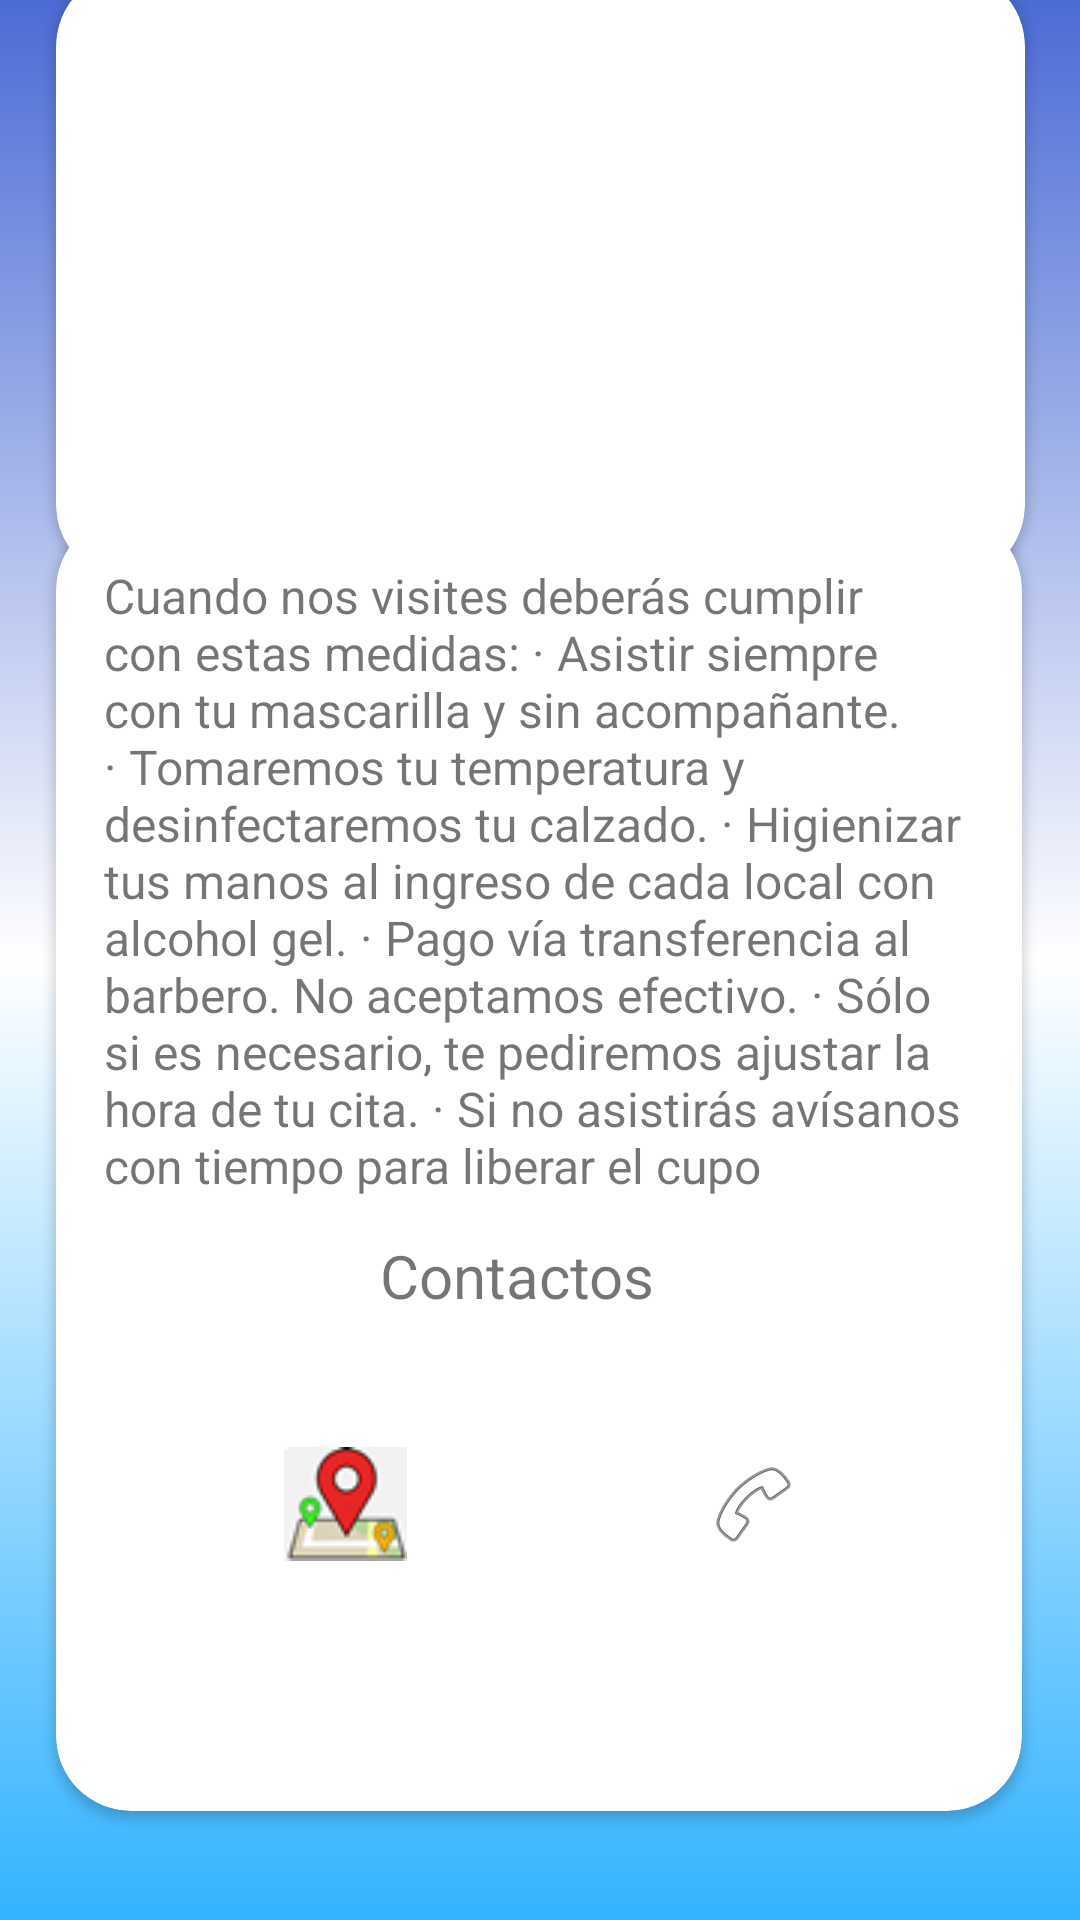

Named icons in this screenshot (1080×1920) and their bounding boxes, {"left": x1, "top": y1, "right": x2, "bottom": y2}:
call: {"left": 716, "top": 1467, "right": 791, "bottom": 1542}
mapdoos: {"left": 286, "top": 1447, "right": 407, "bottom": 1561}
